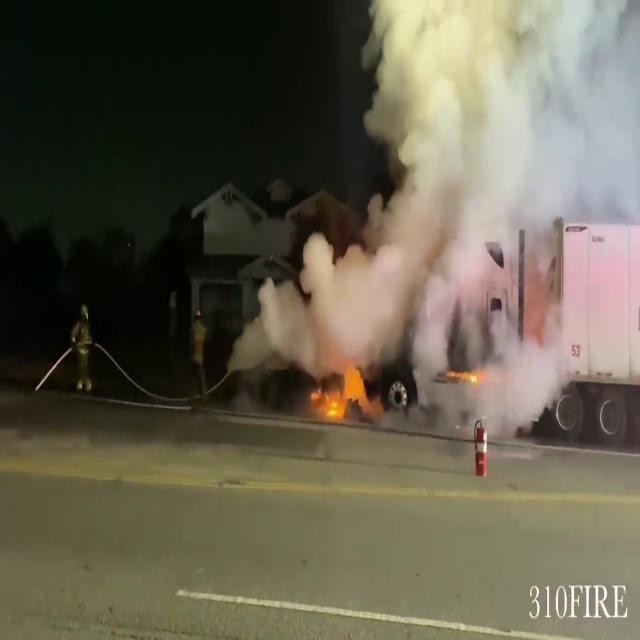Fire: (307, 356, 374, 424)
Smoke: (306, 0, 640, 390)
